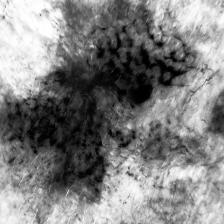Benign Marking or Mole: (1, 8, 195, 195)
